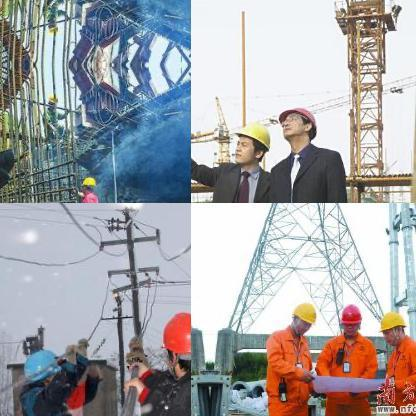Helmet: (225, 112, 280, 166), (267, 97, 321, 151), (157, 307, 190, 377), (22, 348, 60, 396), (376, 305, 406, 347), (287, 296, 317, 334), (337, 300, 363, 340), (80, 172, 96, 190), (46, 90, 58, 108), (46, 18, 58, 36)
